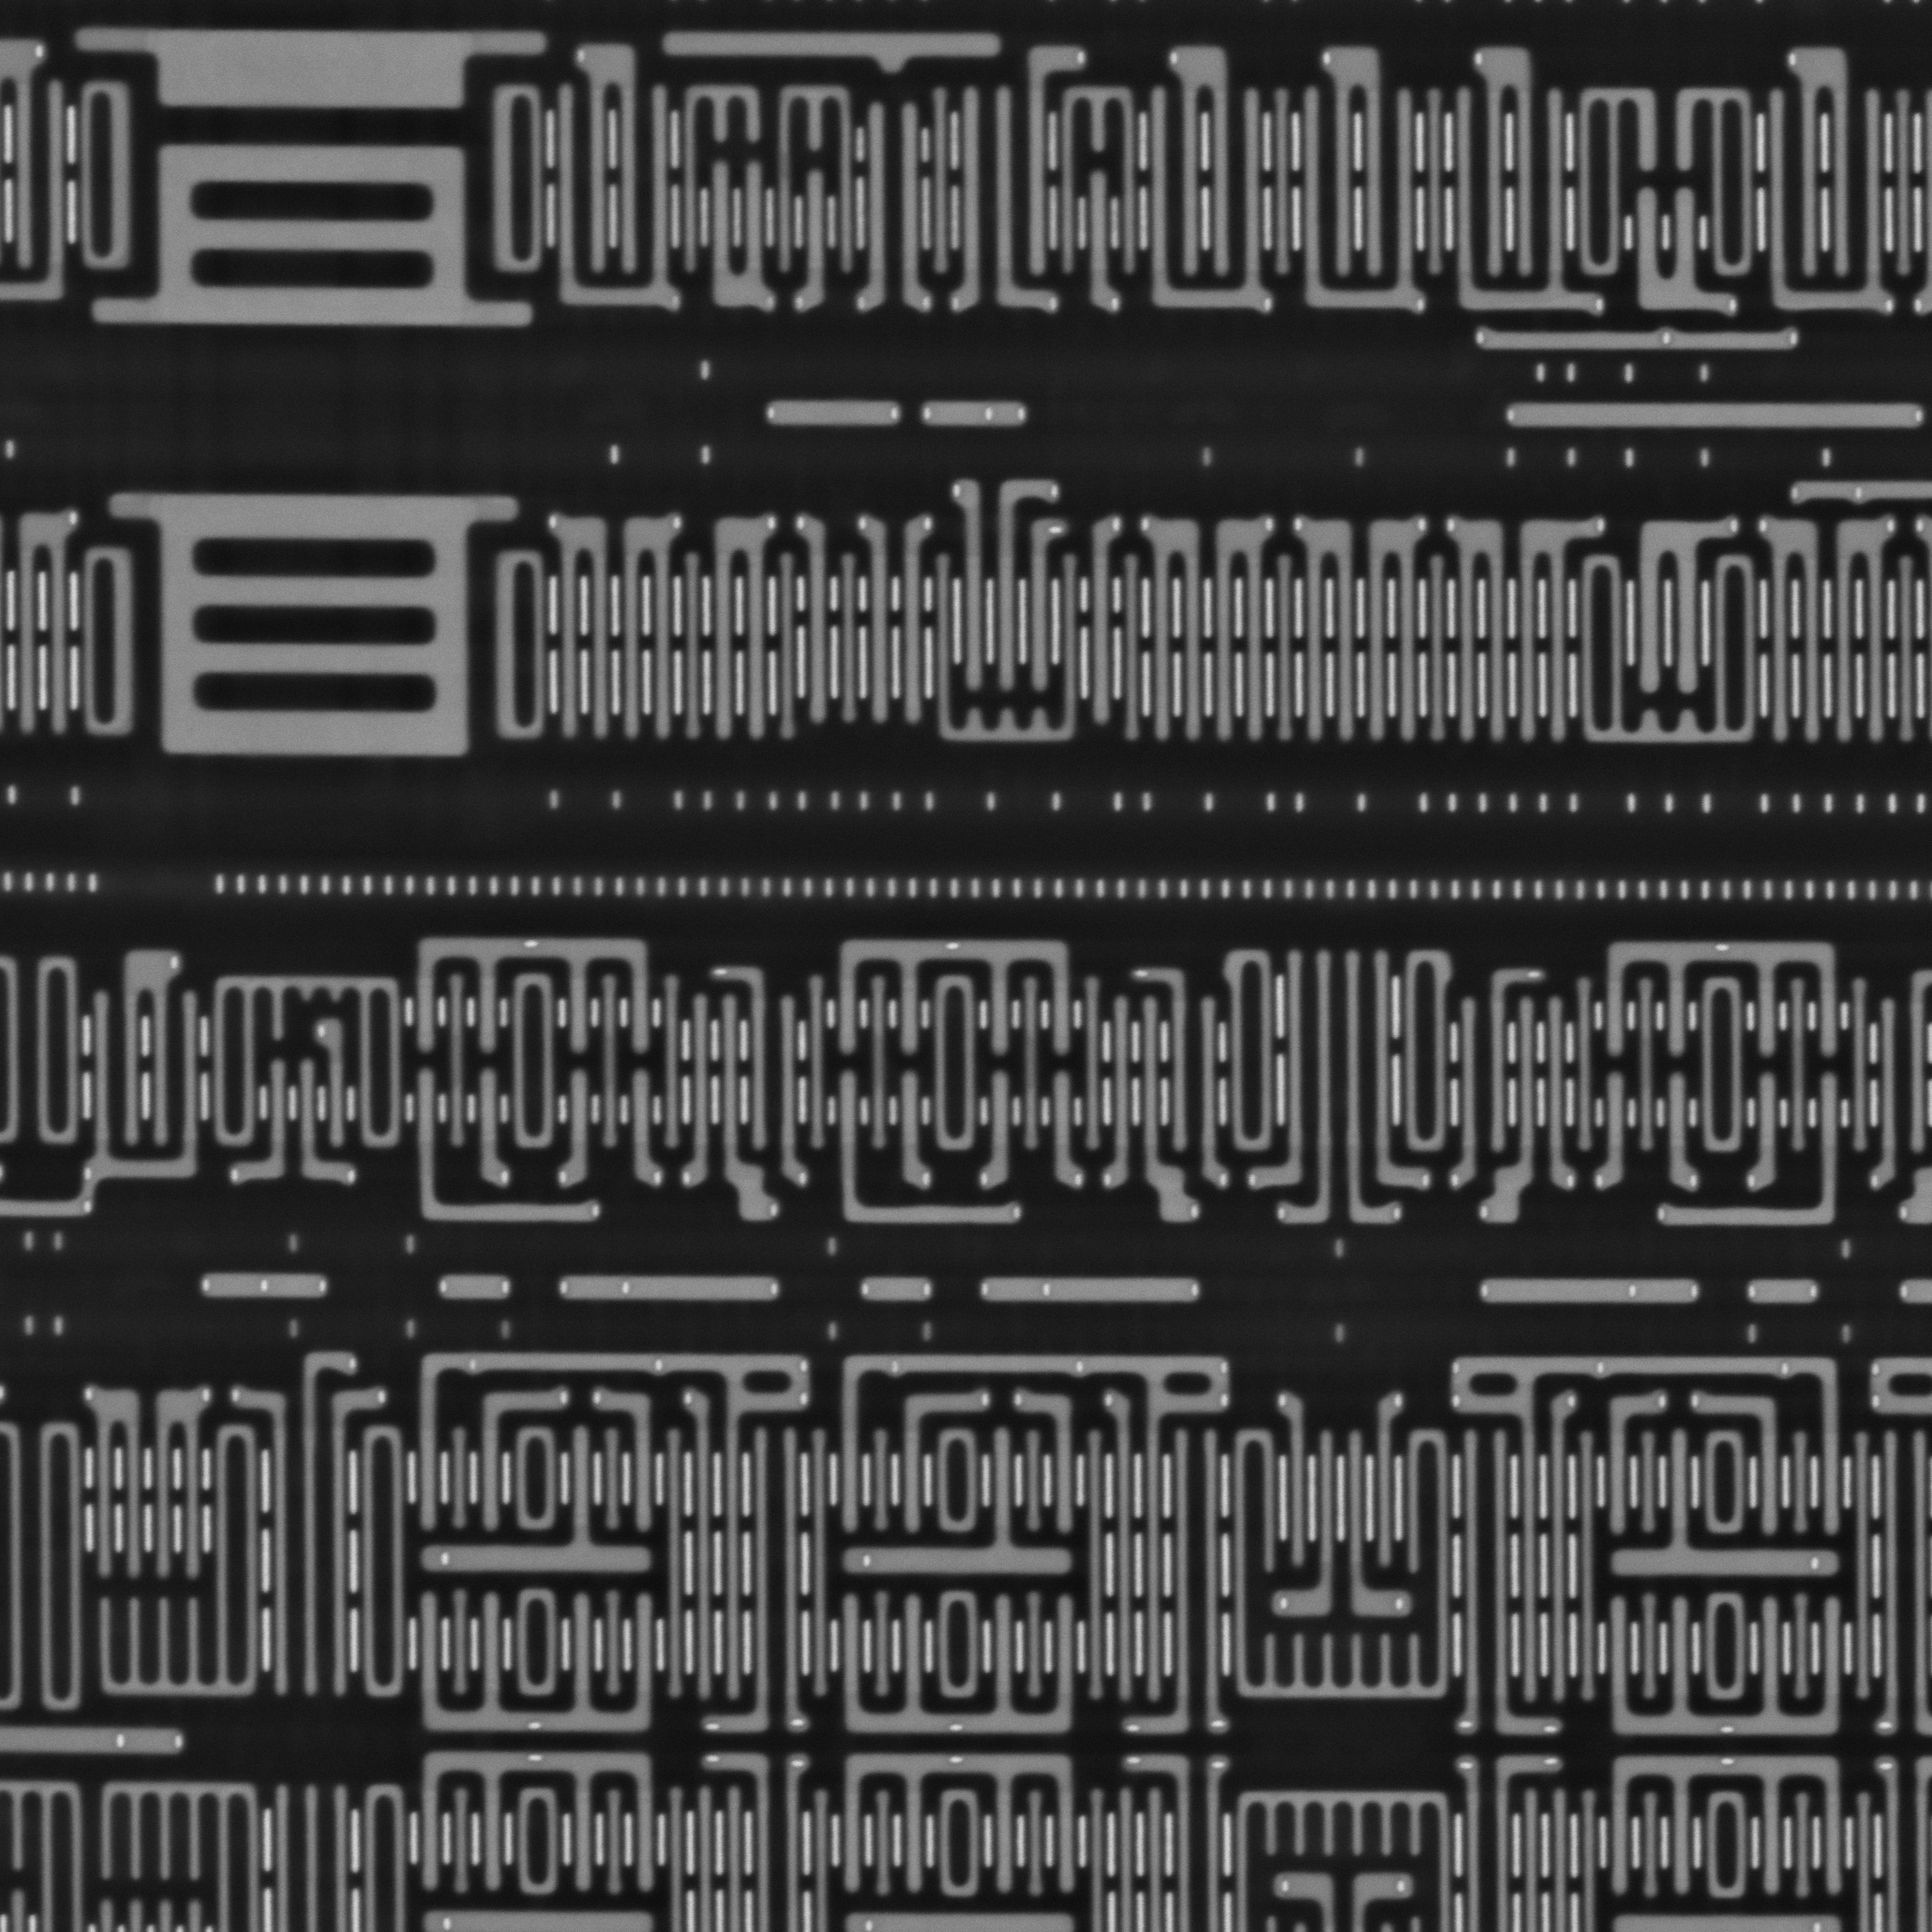doubleGate: (1507, 508, 1610, 748), (1624, 515, 1743, 694), (1134, 517, 1215, 750), (1755, 518, 1835, 750), (4, 504, 83, 732), (1292, 515, 1368, 748), (1444, 518, 1520, 748), (610, 510, 685, 745), (701, 513, 775, 748), (1622, 177, 1750, 313), (547, 511, 621, 743), (1822, 517, 1897, 748), (1357, 517, 1428, 755), (1203, 517, 1274, 750), (140, 1382, 218, 1587), (74, 1384, 152, 1582), (692, 154, 782, 315)
insideDummy: (103, 487, 517, 763), (90, 134, 536, 329), (74, 27, 547, 111), (658, 32, 1007, 76)
multiGate: (833, 1746, 1090, 1900), (1594, 1753, 1856, 1902), (409, 1587, 667, 1737), (1598, 1592, 1854, 1741), (409, 1748, 665, 1897), (830, 932, 1085, 1067), (1594, 934, 1856, 1062), (395, 939, 662, 1056)
publicGate: (232, 1343, 391, 1702), (1249, 941, 1433, 1233), (1442, 46, 1606, 313), (1752, 41, 1898, 317), (550, 35, 686, 311), (1138, 42, 1276, 315), (1293, 48, 1433, 315), (1447, 1426, 1568, 1736), (708, 1430, 817, 1737), (1125, 1426, 1237, 1727), (81, 947, 212, 1192), (1125, 962, 1233, 1191), (713, 961, 814, 1196), (1442, 968, 1545, 1192), (856, 97, 932, 318)
resistor: (1504, 402, 1927, 433), (1476, 326, 1810, 357), (557, 1269, 789, 1306), (1476, 1276, 1707, 1304), (978, 1279, 1207, 1306), (763, 395, 908, 426), (915, 395, 1030, 430), (193, 1274, 334, 1299), (1748, 1276, 1826, 1306), (856, 1276, 939, 1300), (435, 1276, 513, 1299)
singleGate: (1134, 993, 1205, 1228), (985, 476, 1060, 694), (1534, 1392, 1585, 1706), (674, 1389, 724, 1700), (1479, 998, 1546, 1226), (1691, 1391, 1792, 1541), (893, 1384, 991, 1539), (465, 1387, 570, 1532), (717, 996, 782, 1226), (1100, 1391, 1146, 1700), (1336, 1435, 1410, 1622), (1276, 1435, 1346, 1622), (851, 515, 906, 731), (791, 511, 844, 731), (1008, 1391, 1085, 1539), (952, 478, 1003, 694), (591, 1387, 665, 1532), (223, 1058, 301, 1192), (1598, 1391, 1668, 1532), (892, 513, 938, 729), (1536, 1000, 1585, 1192), (1017, 513, 1069, 695), (1081, 511, 1125, 722), (288, 1062, 357, 1191), (1274, 1391, 1320, 1573), (1102, 993, 1141, 1200), (787, 159, 837, 318), (1366, 1391, 1408, 1575), (681, 994, 720, 1191), (1077, 170, 1125, 315), (886, 1074, 943, 1189), (311, 1017, 359, 1150), (1039, 1069, 1088, 1194), (464, 1069, 515, 1189), (1587, 1070, 1637, 1191), (1656, 1070, 1702, 1198), (621, 1067, 667, 1192), (1746, 1074, 1790, 1198), (978, 1074, 1019, 1191)
